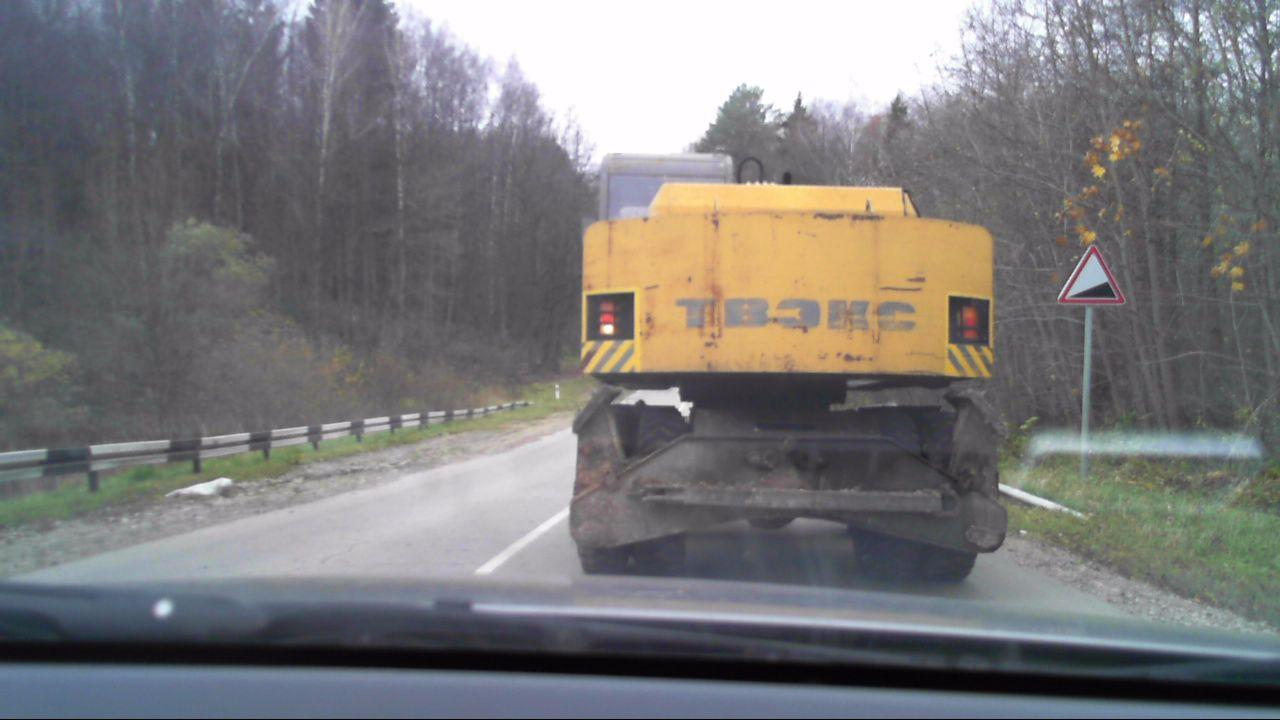1_14: (1057, 244, 1131, 307)
